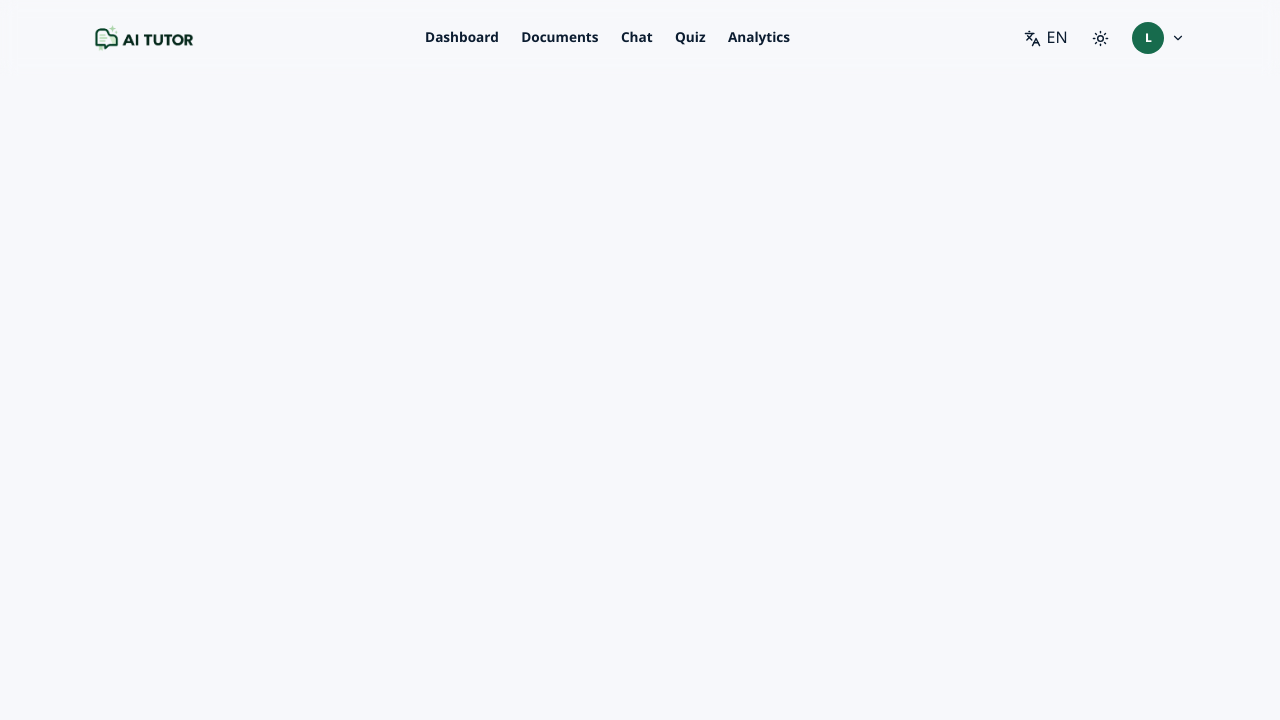
ProductNavigation › closes the account menu after an outside pointer interaction
The width and height of the screenshot is (1280, 720).
Click the button named "Open account menu Learner Name".
click(1159, 38)  # box [1125,16,1192,60]
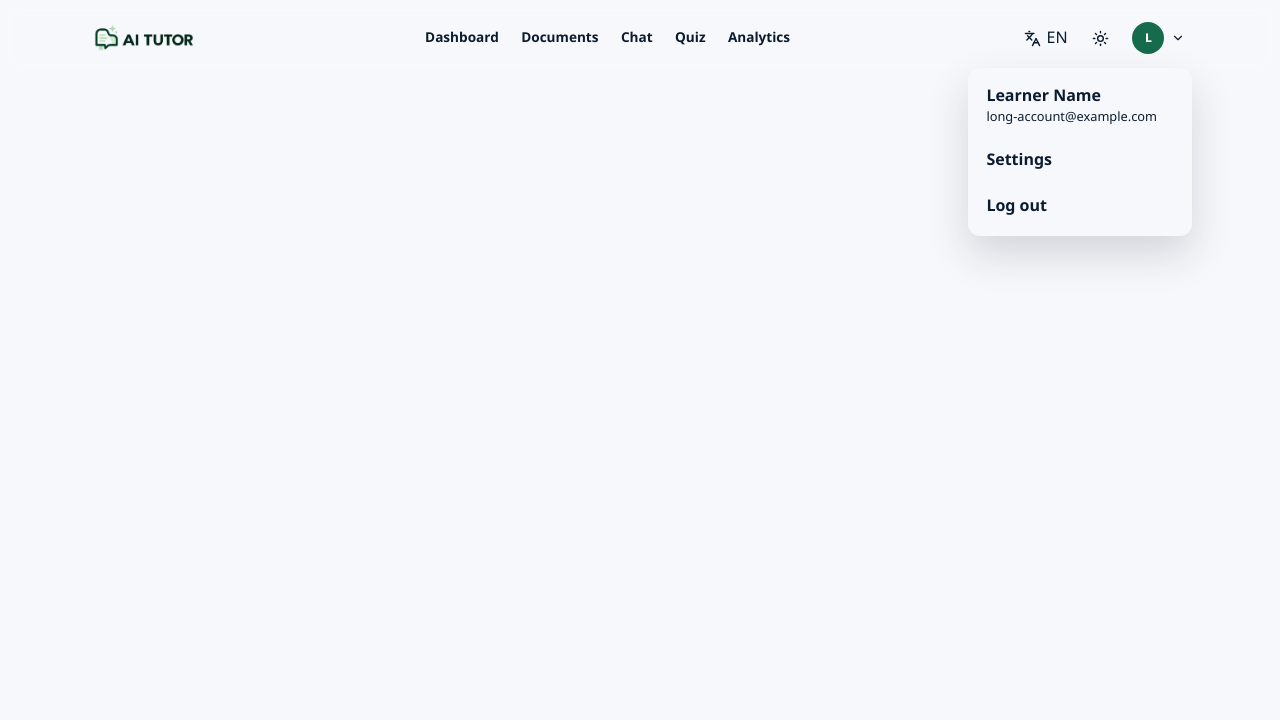
Press the mouse on the element that starts with "Dashboard" at (640, 360), box [0,0,1279,719]
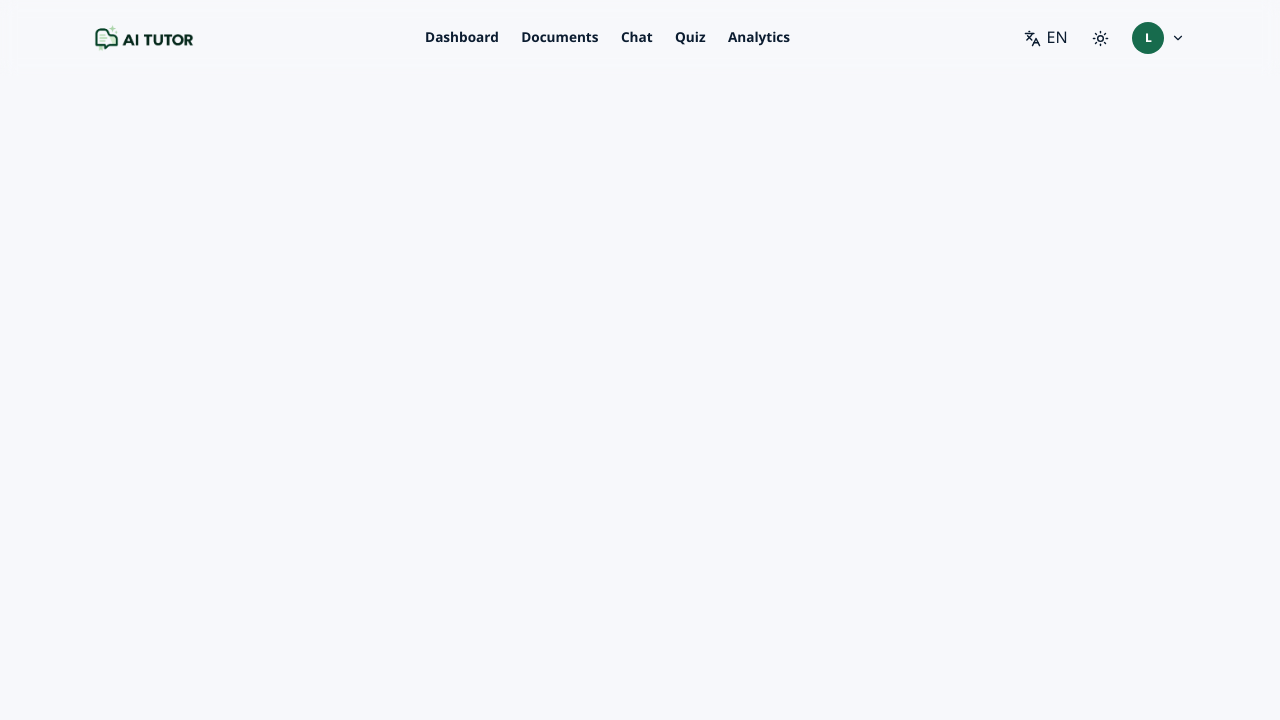
Now the menu "Account menu" is gone
